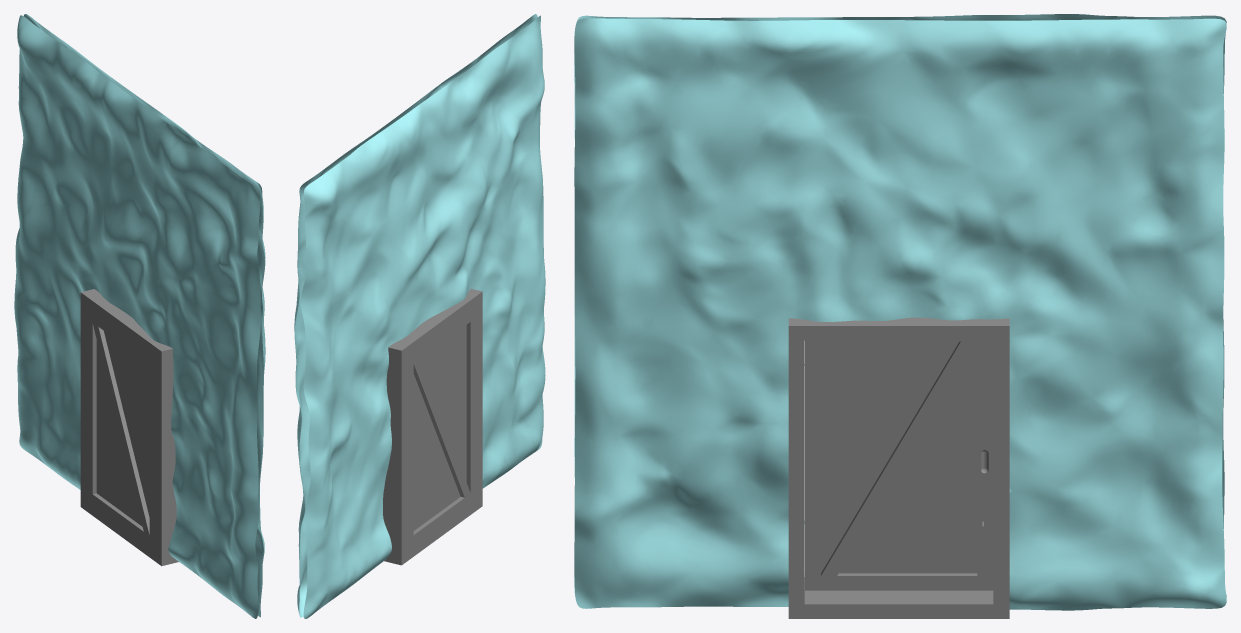
Rendered from door.glb.
The picture shows the model from 3 angles, left to right: view 1: azimuth 30°, elevation 25°; view 2: azimuth 150°, elevation 25°; view 3: azimuth 270°, elevation 25°; orthographic projection. The views are drawn at different scales.
Parts seen in each view (by area): view 1: Plane, Door, Frame, Plane.001; view 2: Plane, Door, Frame, Plane.001; view 3: Plane.001, Door, Frame, Plane.
Part boxes in pixels (<box>): Plane: <box>14,15,260,618</box>; Door: <box>86,308,155,550</box>; Frame: <box>80,289,178,566</box>; Plane.001: <box>24,14,265,617</box>; Plane: <box>301,15,545,618</box>; Door: <box>407,307,476,549</box>; Frame: <box>383,288,482,565</box>; Plane.001: <box>294,14,537,617</box>; Plane.001: <box>574,18,1226,610</box>; Door: <box>805,340,993,590</box>; Frame: <box>788,317,1009,618</box>; Plane: <box>574,14,1226,597</box>.
Size of the model in its own units: 2 by 20.24 by 20.18.
